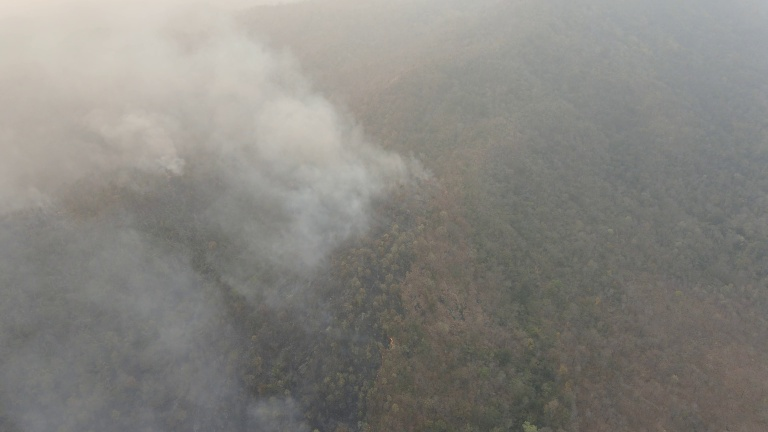fire: (353, 330, 399, 432)
smoke: (1, 1, 434, 431)
